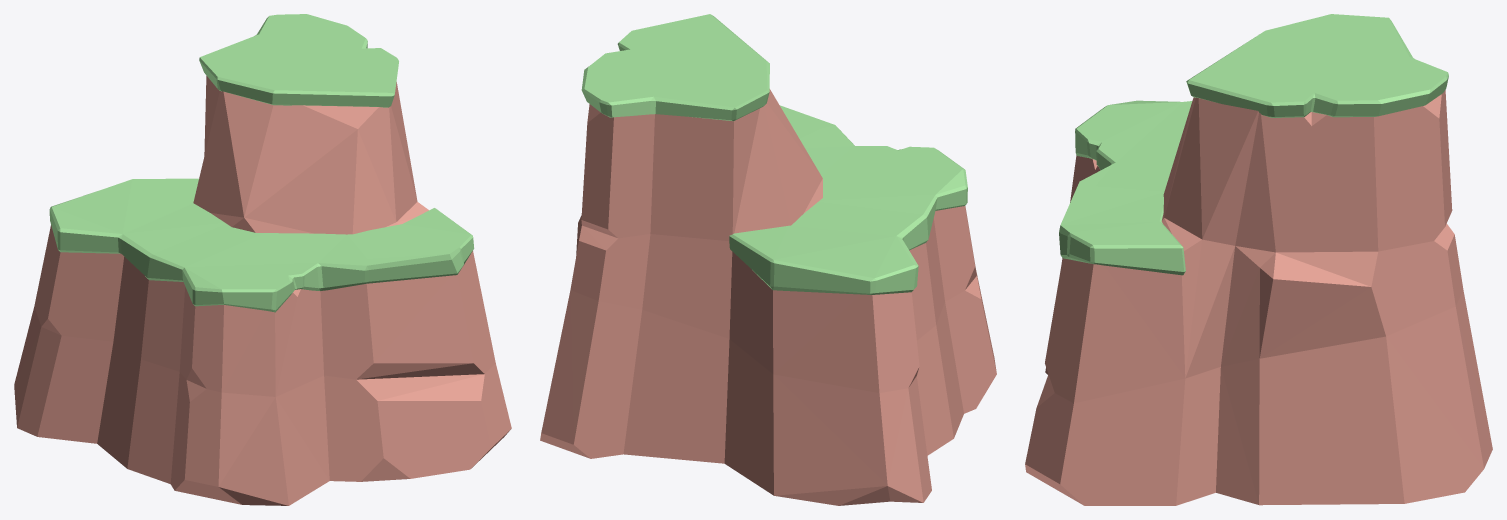
Rendered from Plane_011_Vlad.fbx.
The picture shows the model from 3 angles, left to right: view 1: azimuth 30°, elevation 25°; view 2: azimuth 150°, elevation 25°; view 3: azimuth 270°, elevation 25°; orthographic projection. The views are drawn at different scales.
Parts seen in each view (by area): view 1: Plane.011; view 2: Plane.011; view 3: Plane.011.
Part boxes in pixels (x1=…): Plane.011: x1=14, y1=14, x2=511, y2=505; Plane.011: x1=540, y1=14, x2=996, y2=505; Plane.011: x1=1025, y1=14, x2=1492, y2=505.
Bounding box in the file's own units: 868 × 765 × 838.
